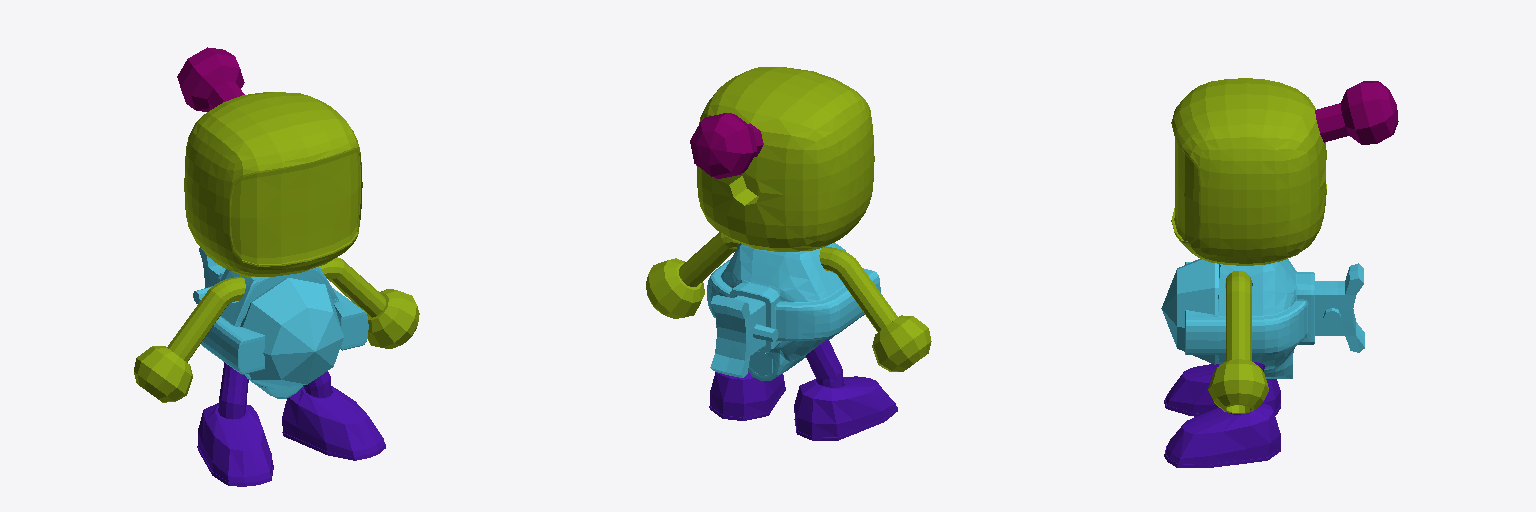
The model's file is BlueBomby.obj.
The picture shows the model from 3 angles: view 1: azimuth 30°, elevation 25°; view 2: azimuth 150°, elevation 25°; view 3: azimuth 270°, elevation 25°; orthographic projection.
Visible parts, largest first — view 1: Head_BM_Blue, Ball_BM_Blue, Body_BM_Blue, Feet_Left_BM_Blue, Feet_Right_BM_Blue, Head_Bulge_BM_Blue, Arm_Right_BM_Blue, Fist_Right_BM_Blue, Fist_Left_BM_Blue, Arm_Left_BM_Blue, Leg_Right_BM_Blue; view 2: Head_BM_Blue, Body_BM_Blue, Feet_Right_BM_Blue, Head_Bulge_BM_Blue, Trigger_BM_Blue, Feet_Left_BM_Blue, Arm_Right_BM_Blue, Fist_Right_BM_Blue, Fist_Left_BM_Blue, Arm_Left_BM_Blue, Leg_Right_BM_Blue; view 3: Head_BM_Blue, Body_BM_Blue, Feet_Left_BM_Blue, Head_Bulge_BM_Blue, Ball_BM_Blue, Trigger_BM_Blue, Fist_Left_BM_Blue, Feet_Right_BM_Blue, Arm_Left_BM_Blue.
Part boxes in pixels (bbox=[...]): Head_BM_Blue: bbox=[184, 92, 362, 276]; Ball_BM_Blue: bbox=[240, 278, 343, 386]; Body_BM_Blue: bbox=[201, 267, 368, 398]; Feet_Left_BM_Blue: bbox=[282, 385, 385, 460]; Feet_Right_BM_Blue: bbox=[197, 403, 273, 486]; Head_Bulge_BM_Blue: bbox=[177, 47, 244, 111]; Arm_Right_BM_Blue: bbox=[167, 276, 245, 362]; Fist_Right_BM_Blue: bbox=[134, 346, 192, 402]; Fist_Left_BM_Blue: bbox=[368, 289, 419, 348]; Arm_Left_BM_Blue: bbox=[319, 257, 385, 317]; Leg_Right_BM_Blue: bbox=[218, 362, 248, 419]; Head_BM_Blue: bbox=[696, 67, 874, 251]; Body_BM_Blue: bbox=[707, 243, 880, 381]; Feet_Right_BM_Blue: bbox=[794, 376, 897, 440]; Head_Bulge_BM_Blue: bbox=[690, 113, 763, 178]; Trigger_BM_Blue: bbox=[710, 295, 765, 377]; Feet_Left_BM_Blue: bbox=[709, 372, 785, 420]; Arm_Right_BM_Blue: bbox=[819, 246, 897, 331]; Fist_Right_BM_Blue: bbox=[872, 315, 931, 371]; Fist_Left_BM_Blue: bbox=[646, 258, 704, 318]; Arm_Left_BM_Blue: bbox=[679, 232, 739, 286]; Leg_Right_BM_Blue: bbox=[806, 339, 843, 387]; Head_BM_Blue: bbox=[1171, 78, 1326, 265]; Body_BM_Blue: bbox=[1185, 259, 1314, 378]; Feet_Left_BM_Blue: bbox=[1164, 403, 1280, 467]; Head_Bulge_BM_Blue: bbox=[1315, 81, 1398, 144]; Ball_BM_Blue: bbox=[1161, 259, 1218, 364]; Trigger_BM_Blue: bbox=[1315, 263, 1364, 352]; Fist_Left_BM_Blue: bbox=[1208, 359, 1268, 413]; Feet_Right_BM_Blue: bbox=[1164, 364, 1280, 416]; Arm_Left_BM_Blue: bbox=[1226, 271, 1251, 360].
Size of the model in its own units: 8.85 by 10.54 by 6.54.